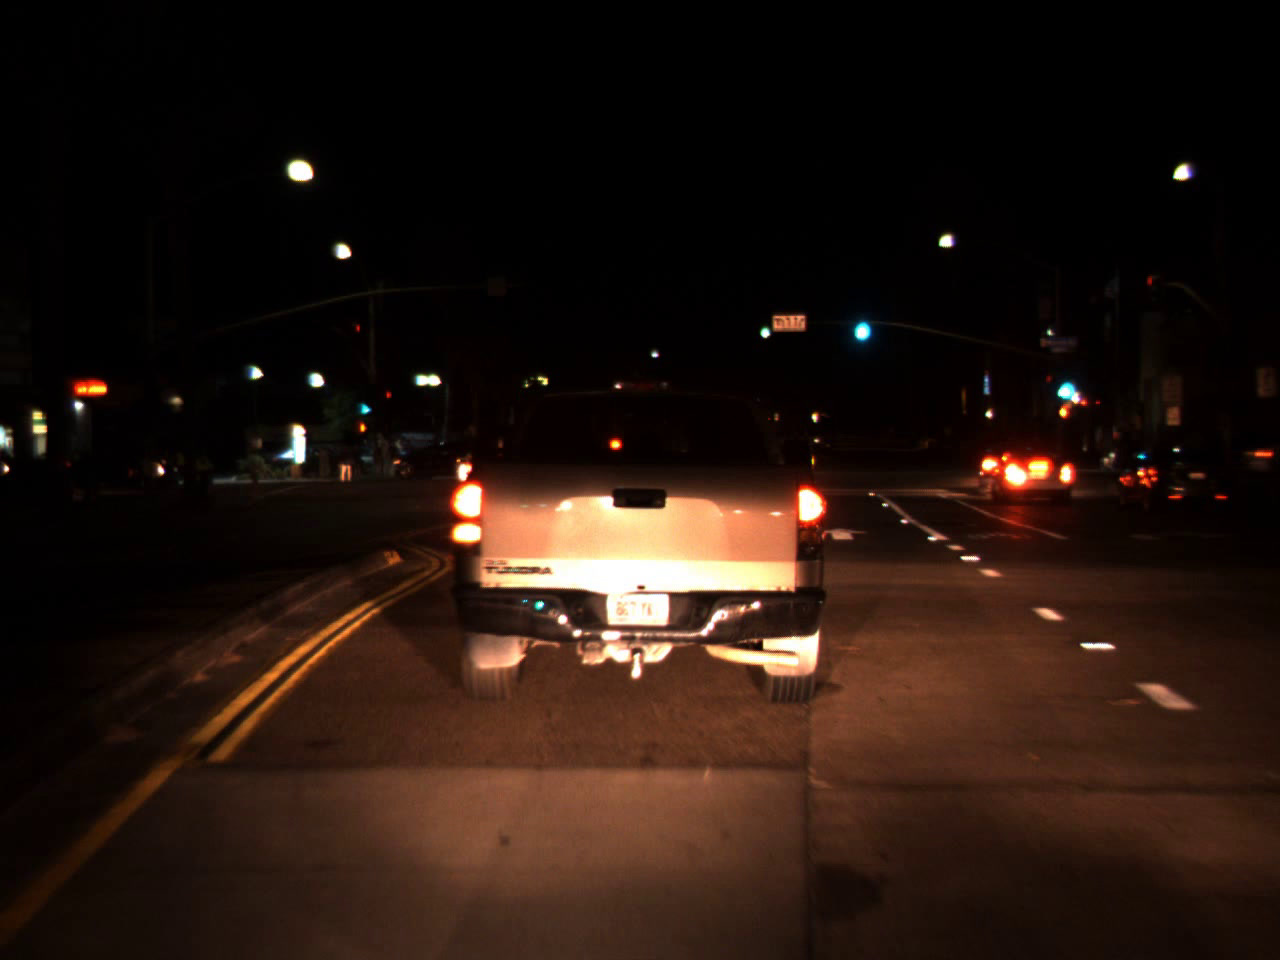go: (849, 301, 874, 348), (1054, 359, 1077, 407), (354, 386, 375, 422), (758, 319, 770, 340)
